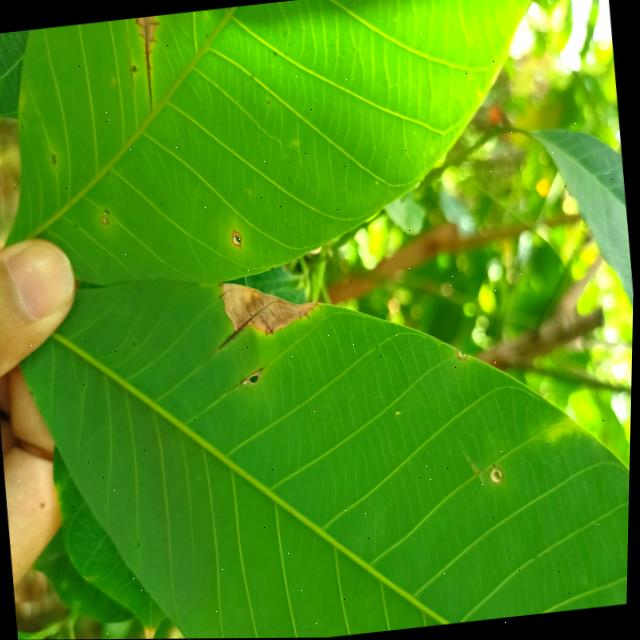Colletotrichum: (101, 214, 110, 225)
Corynespora: (134, 23, 167, 113), (209, 310, 264, 353), (127, 44, 141, 89)
Leaf-Blight: (221, 272, 323, 339), (135, 15, 158, 50)
